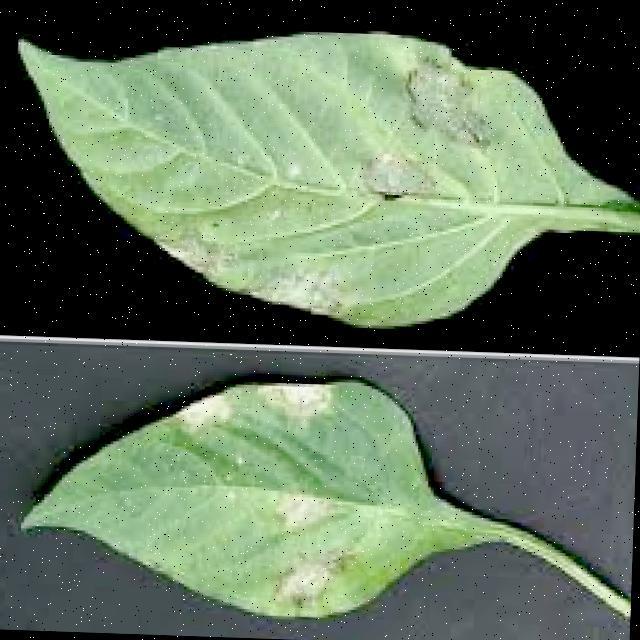leaf spot: (5, 6, 638, 344), (0, 354, 482, 633)
